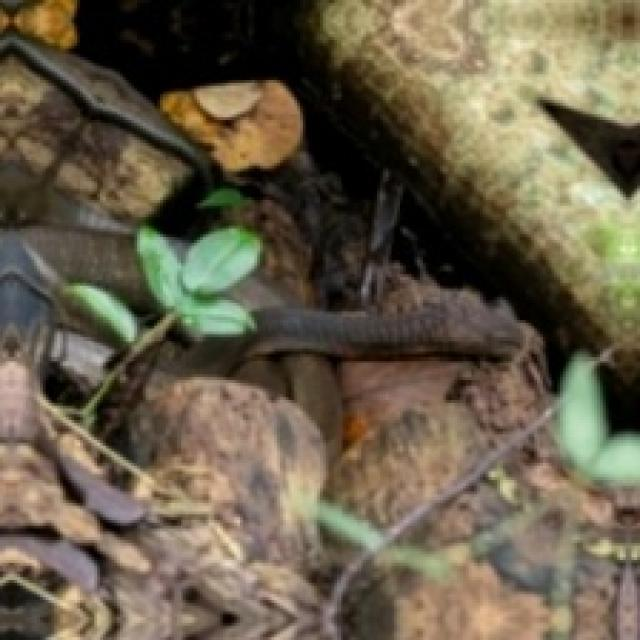king cobra: (0, 34, 597, 637), (134, 223, 263, 340)
